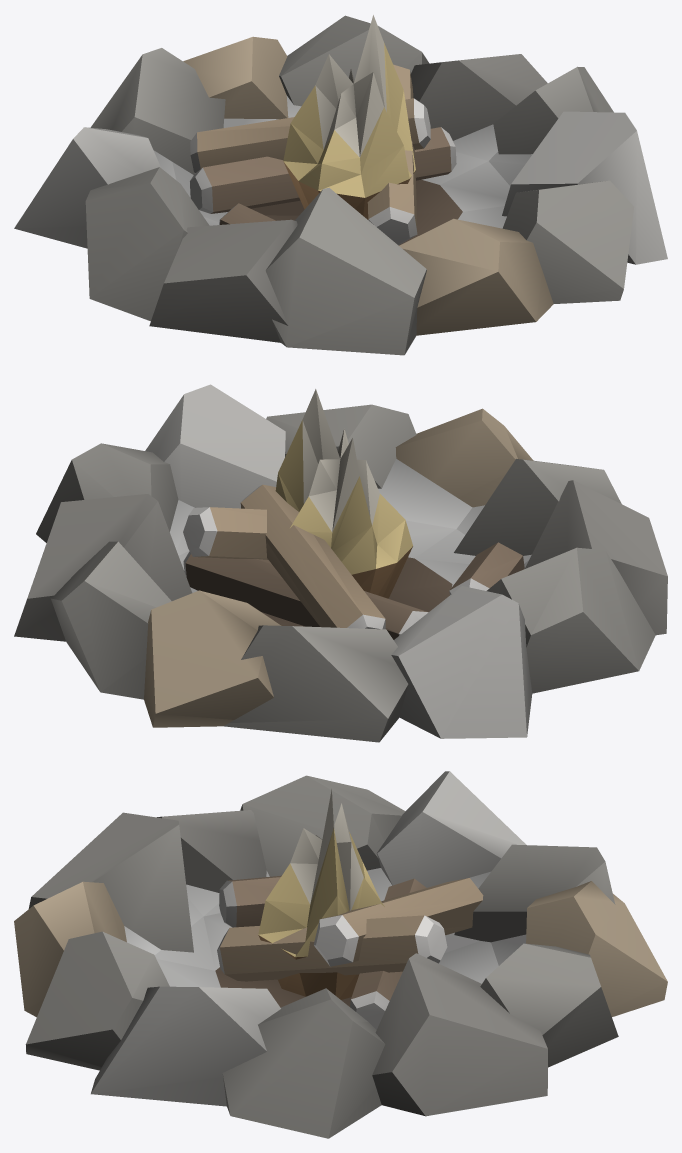
The model's file is firepit.glb.
3 views of the same model, one above another, from view 1: azimuth 30°, elevation 25°; view 2: azimuth 150°, elevation 25°; view 3: azimuth 270°, elevation 25° (orthographic). The views are drawn at different scales.
Visible parts, largest first — view 1: firepit; view 2: firepit; view 3: firepit.
Part boxes in pixels (x1=…): firepit: x1=14, y1=15, x2=667, y2=355; firepit: x1=14, y1=384, x2=667, y2=742; firepit: x1=14, y1=771, x2=667, y2=1138.
Bounding box in the file's own units: 1.81 × 0.63 × 1.75.
